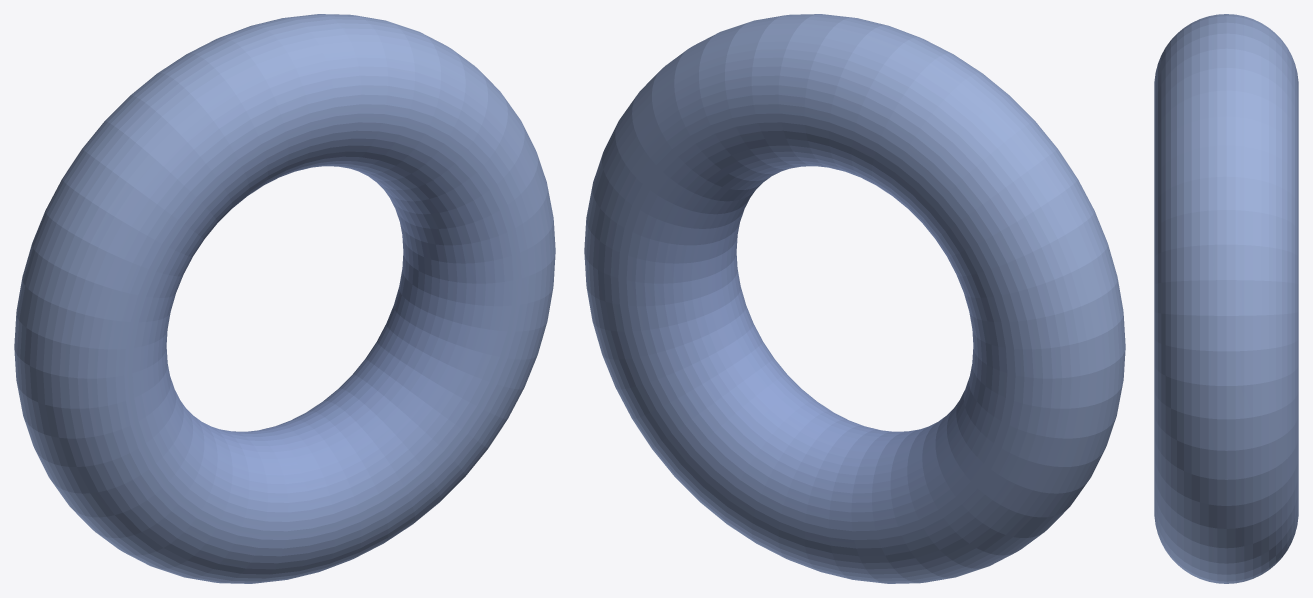
3 renders of one model, left to right at view 1: azimuth 30°, elevation 25°; view 2: azimuth 150°, elevation 25°; view 3: azimuth 270°, elevation 25°, orthographic. The views are drawn at different scales.
Visible parts, largest first — view 1: world; view 2: world; view 3: world.
Boxes of the visible parts, x1=… form: world: x1=14, y1=14, x2=555, y2=583; world: x1=584, y1=14, x2=1125, y2=583; world: x1=1154, y1=14, x2=1298, y2=583.
Size of the model in its own units: 20.53 by 20.49 by 5.19.
